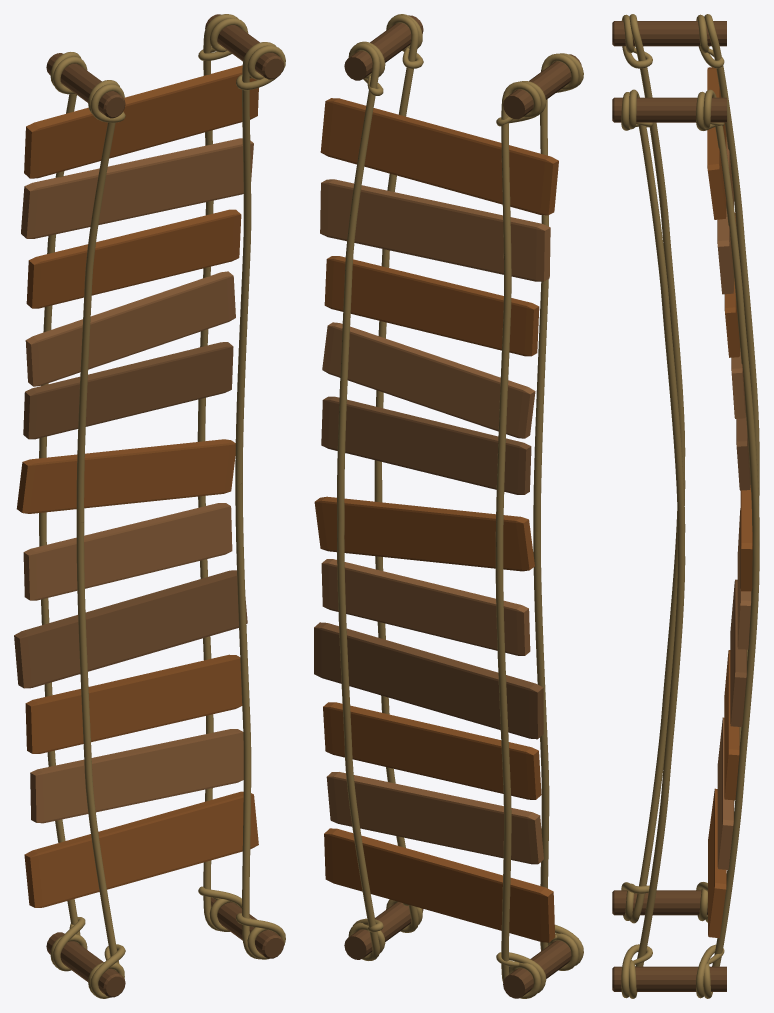
Rendered from Hängebrücke.fbx.
3 views of the same model, side by side, from view 1: azimuth 30°, elevation 25°; view 2: azimuth 150°, elevation 25°; view 3: azimuth 270°, elevation 25° (orthographic).
Parts seen in each view (by area): view 1: Seil Oben, Cube.001, Cube.004, Cube.010, Cube.011, Cube.003, Cube.002, Cube.006, Cube.009, Cube.005, Cube.008, Cube.007 (+2 smaller); view 2: Seil unten, Cube.011, Cube.010, Cube.004, Cube.001, Cube.009, Cube.006, Cube.003, Cube.008, Cube.007, Cube.002, Cube.005 (+2 smaller); view 3: Seil Oben, Seil unten, Cylinder, Cube.001, Cube.004, Cube.011, Cube.002, Cube.003, Cube.006, Cube.010, Cube.005, Cube.007 (+2 smaller).
Boxes of the visible parts, x1,y1,x2,y2 form: Seil Oben: (76,42,285,998); Cube.001: (24,791,258,907); Cube.004: (14,570,247,688); Cube.010: (21,138,253,238); Cube.011: (24,65,258,178); Cube.003: (25,654,242,753); Cube.002: (30,729,243,823); Cube.006: (16,439,235,513); Cube.009: (26,209,241,308); Cube.005: (23,503,232,600); Cube.008: (25,271,235,386); Cube.007: (23,342,233,439); Seil unten: (337,41,546,998); Cube.011: (320,98,558,215); Cube.010: (320,179,550,281); Cube.004: (314,622,543,739); Cube.001: (324,828,555,942); Cube.009: (324,256,539,356); Cube.006: (314,496,534,571); Cube.003: (323,702,541,799); Cube.008: (322,322,535,438); Cube.007: (321,396,531,494); Cube.002: (326,772,543,864); Cube.005: (321,559,530,655); Seil Oben: (621,14,685,998); Seil unten: (696,14,759,998); Cylinder: (612,21,726,991); Cube.001: (708,788,726,938); Cube.004: (730,579,746,726); Cube.011: (707,67,726,219); Cube.002: (717,717,733,869); Cube.003: (724,650,739,800); Cube.006: (740,485,752,591); Cube.010: (717,137,733,294); Cube.005: (737,508,751,649); Cube.007: (736,413,750,490).
Bounding box in the file's own units: 205 × 782 × 115.
